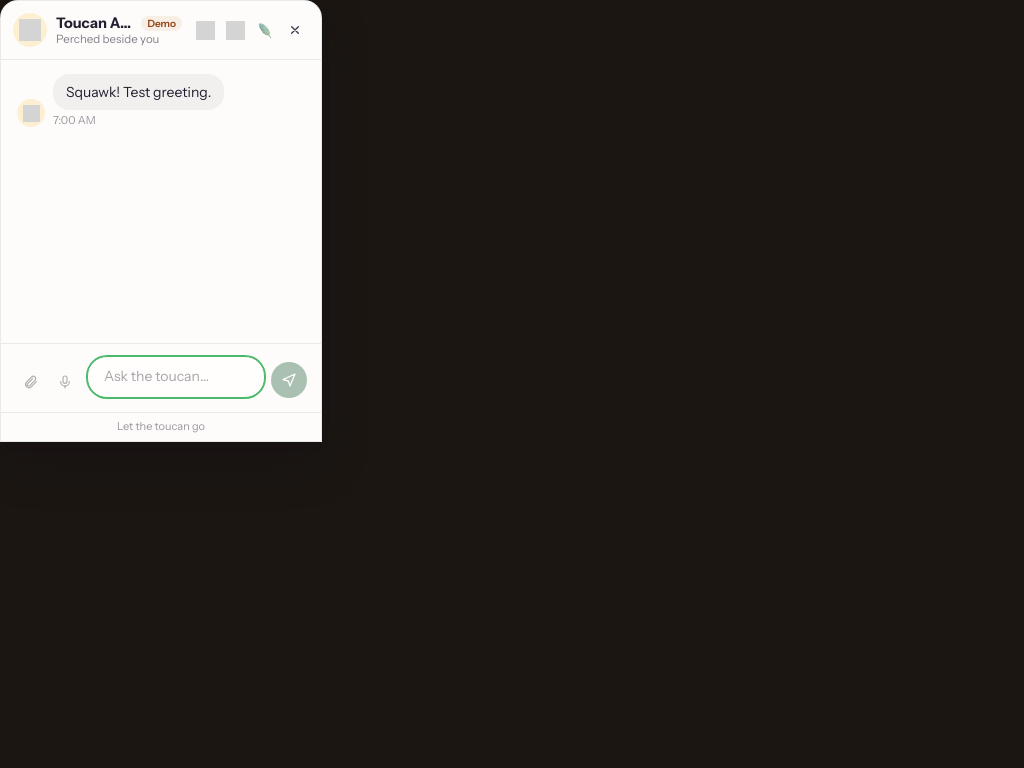
Test: Toucan T9 production polish › history › shows an empty state that says how a conversation gets there
Click the button named "Conversation history" at (205, 30), box [191,16,219,44]
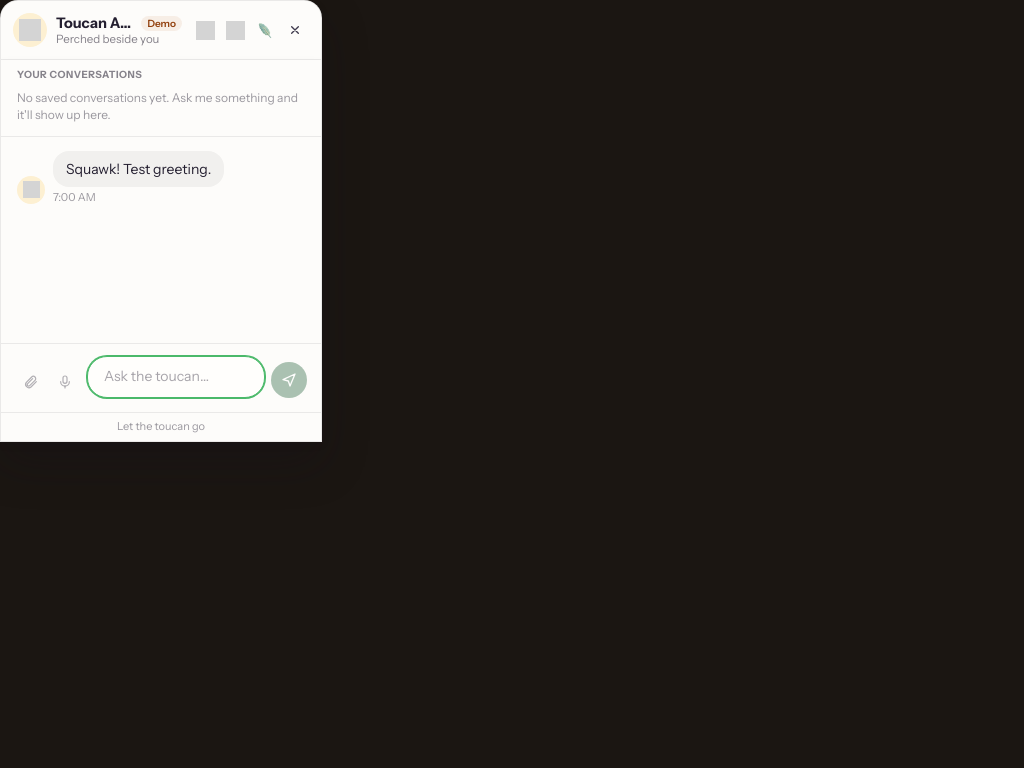
Expected: the text "No saved conversations yet" is shown, [17,90,298,122]
